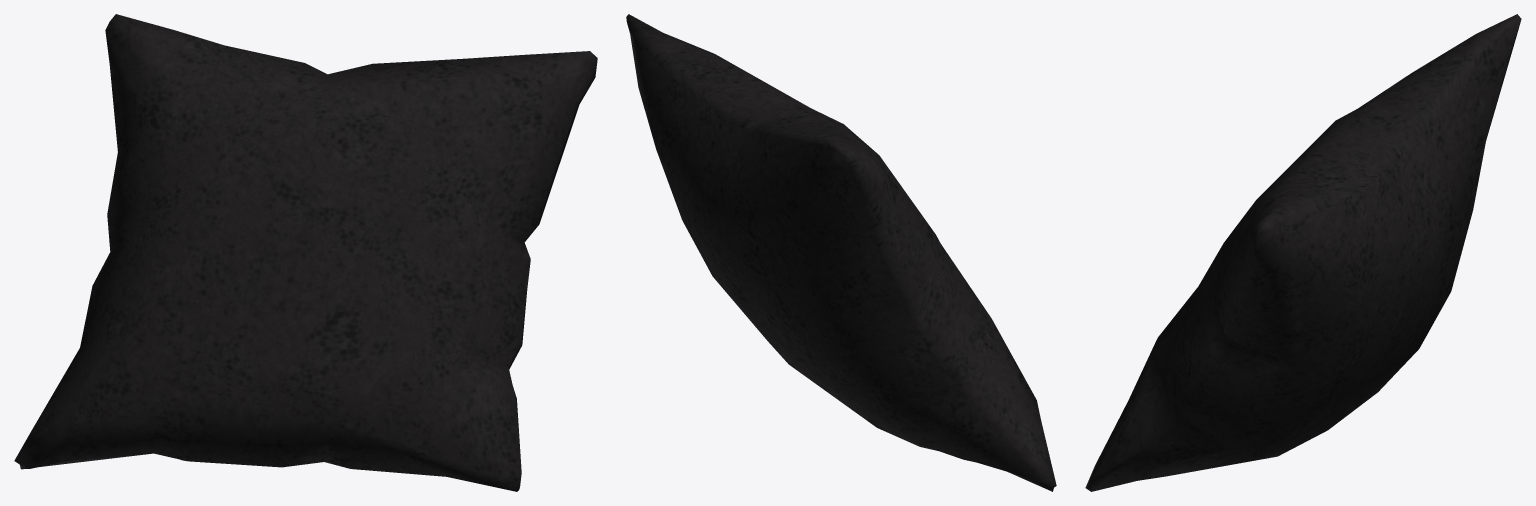
The model's file is cushion.003.fbx.
3 renders of one model, left to right at view 1: azimuth 30°, elevation 25°; view 2: azimuth 150°, elevation 25°; view 3: azimuth 270°, elevation 25°, orthographic. The views are drawn at different scales.
Visible parts, largest first — view 1: cushion.003; view 2: cushion.003; view 3: cushion.003.
Part boxes in pixels (x1=…): cushion.003: x1=14, y1=14, x2=597, y2=491; cushion.003: x1=626, y1=14, x2=1056, y2=491; cushion.003: x1=1085, y1=14, x2=1521, y2=491.
Bounding box in the file's own units: 46.52 × 31.79 × 33.03.
Materials: 1 (1 with a texture image).
